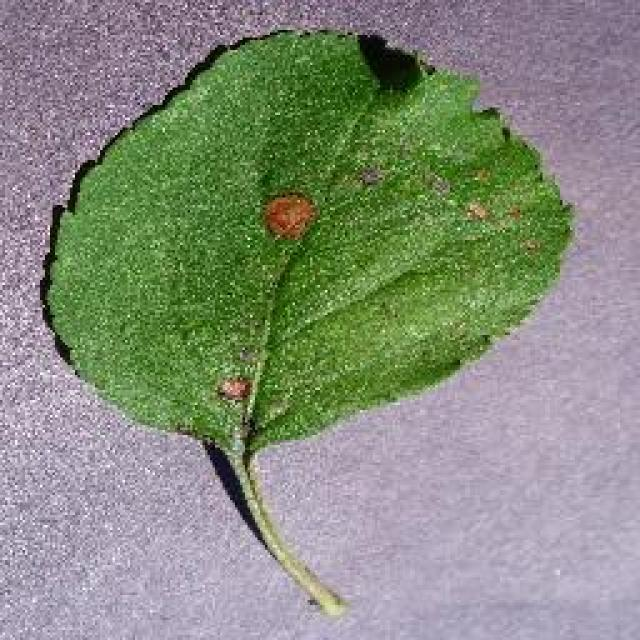apple black rot: (37, 23, 575, 615)
